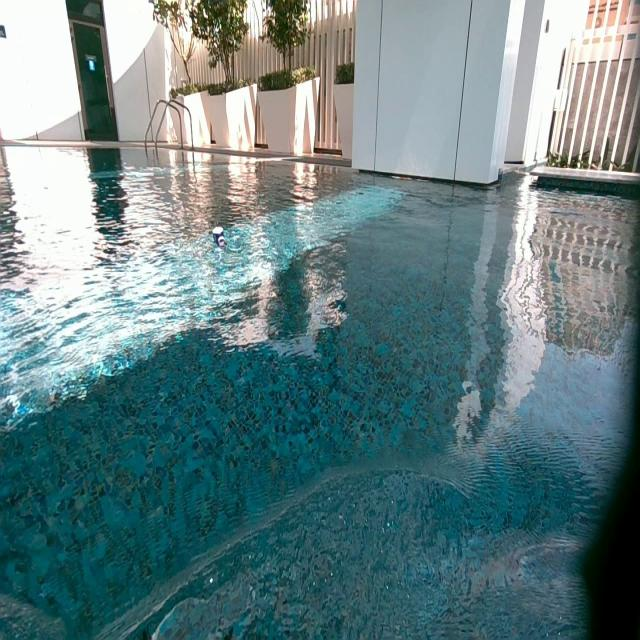Cans: (212, 228, 225, 245)
